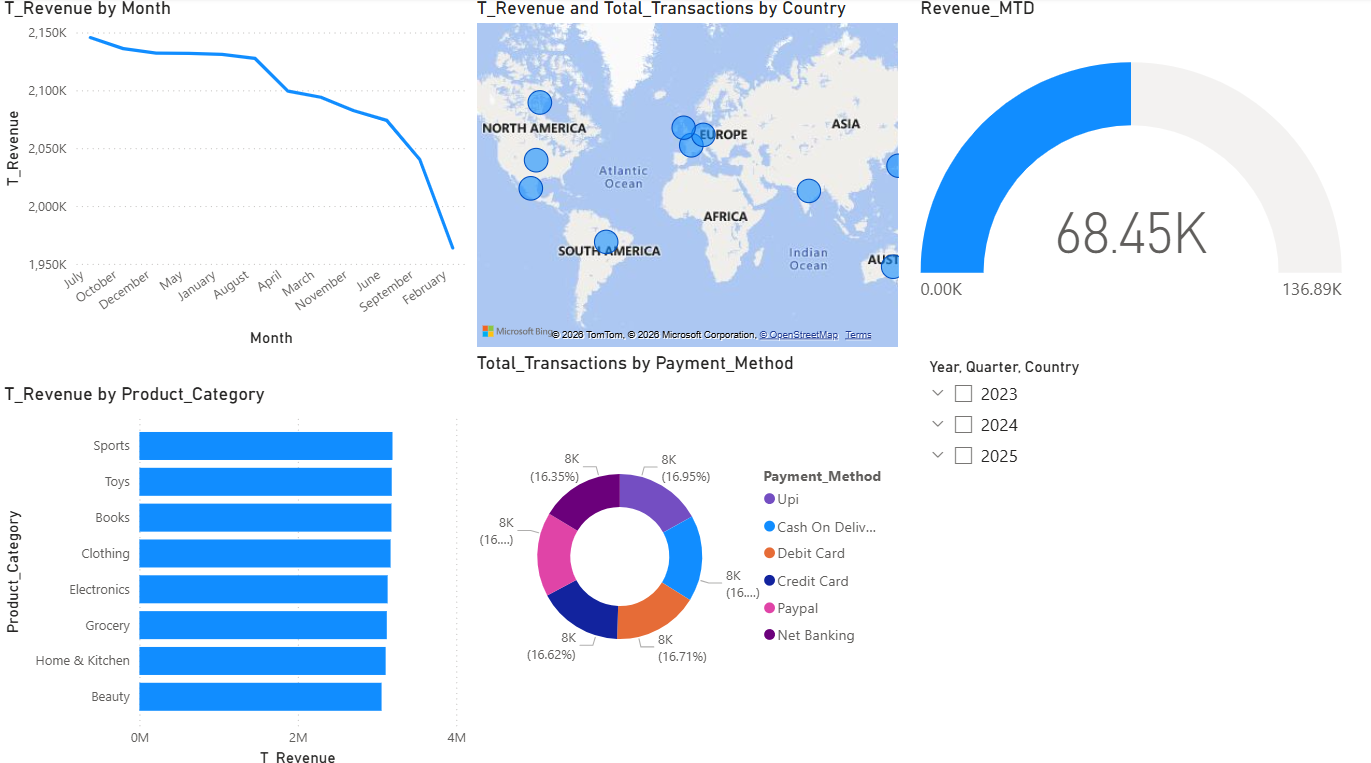

This screenshot's page, from the dashboard's own definition file:
{"tool":"powerbi","page":{"name":"Page 1","canvas":[1280,720],"ordinal":0},"visuals":[{"type":"lineChart","fields":{"Category":["Date_Table.Month"],"Y":["Date_Table.T_Revenue"]},"box":[0,0,439.5,330.2],"z":0},{"type":"clusteredBarChart","fields":{"Category":["cleaned_ecommerce_data.Product_Category"],"Y":["Date_Table.T_Revenue"]},"box":[0,359.3,439.5,361.6],"z":1000},{"type":"map","fields":{"Category":["cleaned_ecommerce_data.Country"],"Size":["Date_Table.T_Revenue"]},"box":[439.5,0,402.3,330.2],"z":2000},{"type":"donutChart","fields":{"Category":["cleaned_ecommerce_data.Payment_Method"],"Y":["Date_Table.Total_Transactions"]},"box":[439.5,330.2,402.3,361.6],"z":3000},{"type":"gauge","fields":{"Y":["Date_Table.Revenue_MTD"]},"box":[852,0,402,330],"z":4000},{"type":"slicer","fields":{"Values":["Date_Table.Year","Date_Table.Quarter","cleaned_ecommerce_data.Country"]},"box":[852,330,402,362],"z":5000}]}

Visuals, with their boxes in screenshot pixels (x1, y1, x2, y2), scaled from the page's 1280x720 canvas onto the 1371x763 screenshot:
lineChart - Date_Table.Month x Date_Table.T_Revenue: {"x1": 0, "y1": 0, "x2": 471, "y2": 350}
clusteredBarChart - cleaned_ecommerce_data.Product_Category x Date_Table.T_Revenue: {"x1": 0, "y1": 381, "x2": 471, "y2": 762}
map - cleaned_ecommerce_data.Country x Date_Table.T_Revenue: {"x1": 471, "y1": 0, "x2": 902, "y2": 350}
donutChart - cleaned_ecommerce_data.Payment_Method x Date_Table.Total_Transactions: {"x1": 471, "y1": 350, "x2": 902, "y2": 733}
gauge - Date_Table.Revenue_MTD: {"x1": 913, "y1": 0, "x2": 1343, "y2": 350}
slicer - Date_Table.Year x Date_Table.Quarter: {"x1": 913, "y1": 350, "x2": 1343, "y2": 733}
